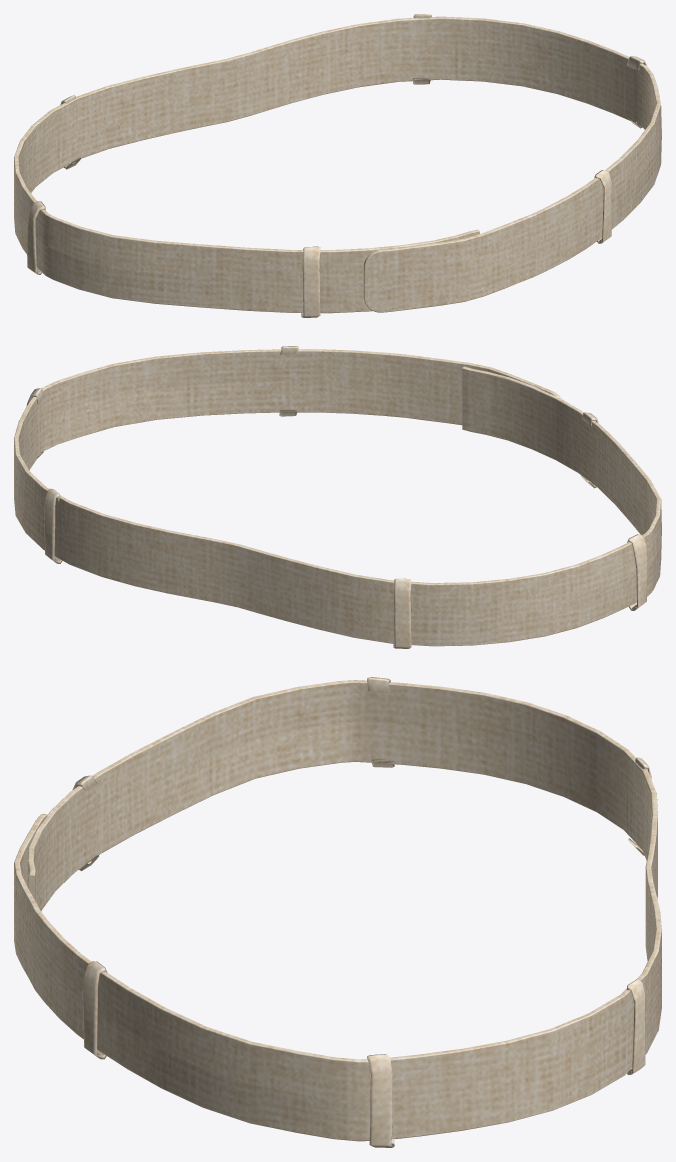
The model's file is Pent_Belt.glb.
3 views of the same model, one above another, from view 1: azimuth 30°, elevation 25°; view 2: azimuth 150°, elevation 25°; view 3: azimuth 270°, elevation 25° (orthographic). The views are drawn at different scales.
Visible parts, largest first — view 1: Belt; view 2: Belt; view 3: Belt.
Part boxes in pixels (x1,y1,x2,y2): Belt: (14, 14, 661, 317); Belt: (14, 346, 661, 648); Belt: (14, 677, 661, 1147).
Bounding box in the file's own units: 0.0479 × 0.00521 × 0.0336.
1 material, 1 textured.
